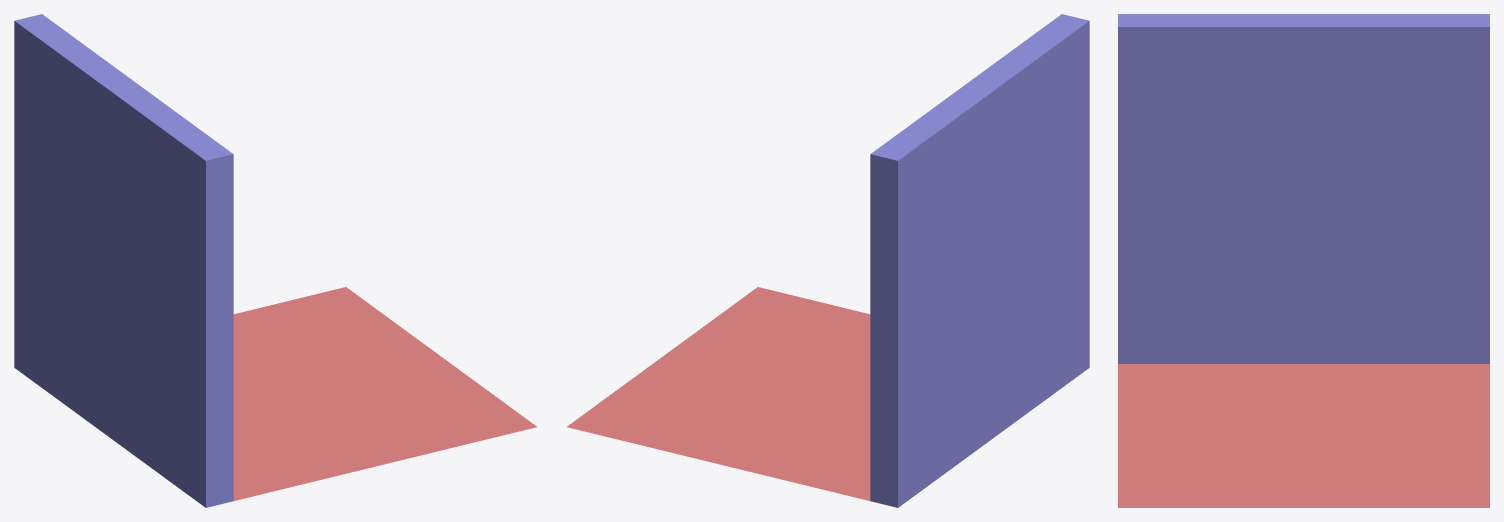
File: SM_WallAndFloor_RevisedScale.fbx
3 views of the same model, side by side, from view 1: azimuth 30°, elevation 25°; view 2: azimuth 150°, elevation 25°; view 3: azimuth 270°, elevation 25° (orthographic). The views are drawn at different scales.
Parts seen in each view (by area): view 1: SM_Wall_Basic, SM_Floor_Basic; view 2: SM_Wall_Basic, SM_Floor_Basic; view 3: SM_Wall_Basic, SM_Floor_Basic.
Boxes of the visible parts, left/top/right/bottom form: SM_Wall_Basic: left=14, top=14, right=233, bottom=507; SM_Floor_Basic: left=233, top=287, right=536, bottom=500; SM_Wall_Basic: left=870, top=14, right=1089, bottom=507; SM_Floor_Basic: left=567, top=287, right=870, bottom=500; SM_Wall_Basic: left=1118, top=14, right=1489, bottom=363; SM_Floor_Basic: left=1118, top=364, right=1489, bottom=507.
Size of the model in its own units: 3 by 3 by 3.
